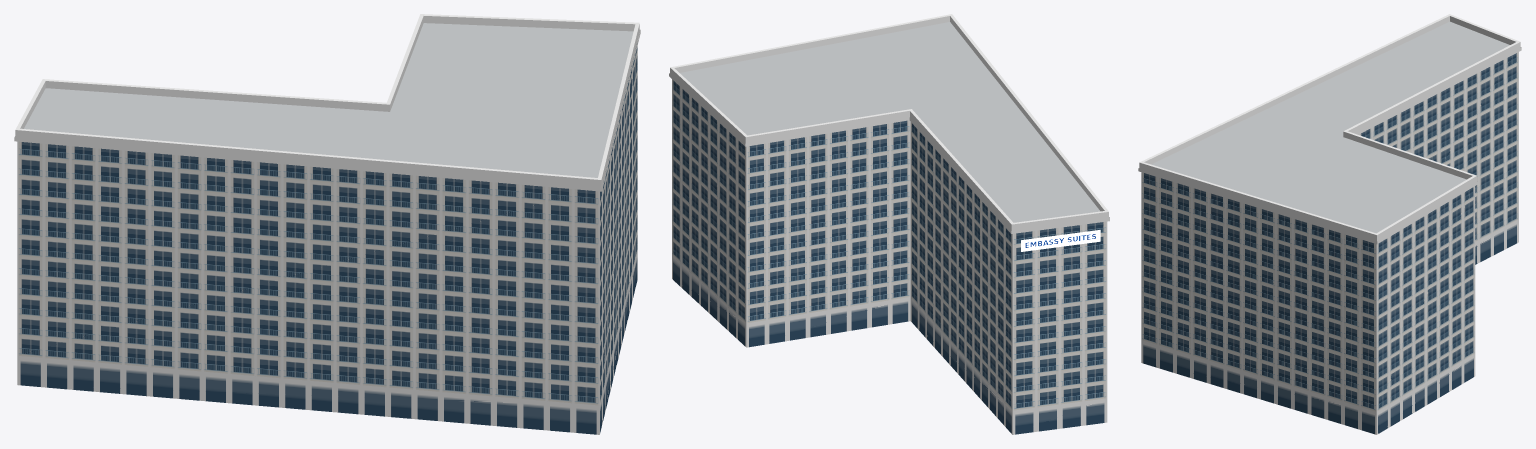
File: embassysuites.glb
3 views of the same model, side by side, from view 1: azimuth 30°, elevation 25°; view 2: azimuth 150°, elevation 25°; view 3: azimuth 270°, elevation 25° (orthographic). The views are drawn at different scales.
Visible parts, largest first — view 1: embassysuites_lod0; view 2: embassysuites_lod0; view 3: embassysuites_lod0.
Boxes of the visible parts, left/top/right/bottom form: embassysuites_lod0: left=14, top=14, right=640, bottom=434; embassysuites_lod0: left=669, top=14, right=1109, bottom=434; embassysuites_lod0: left=1138, top=14, right=1521, bottom=434.
Size of what is drawn, in the model's own units: 92.79 by 39.1 by 67.7.
5 materials, 3 textured.
